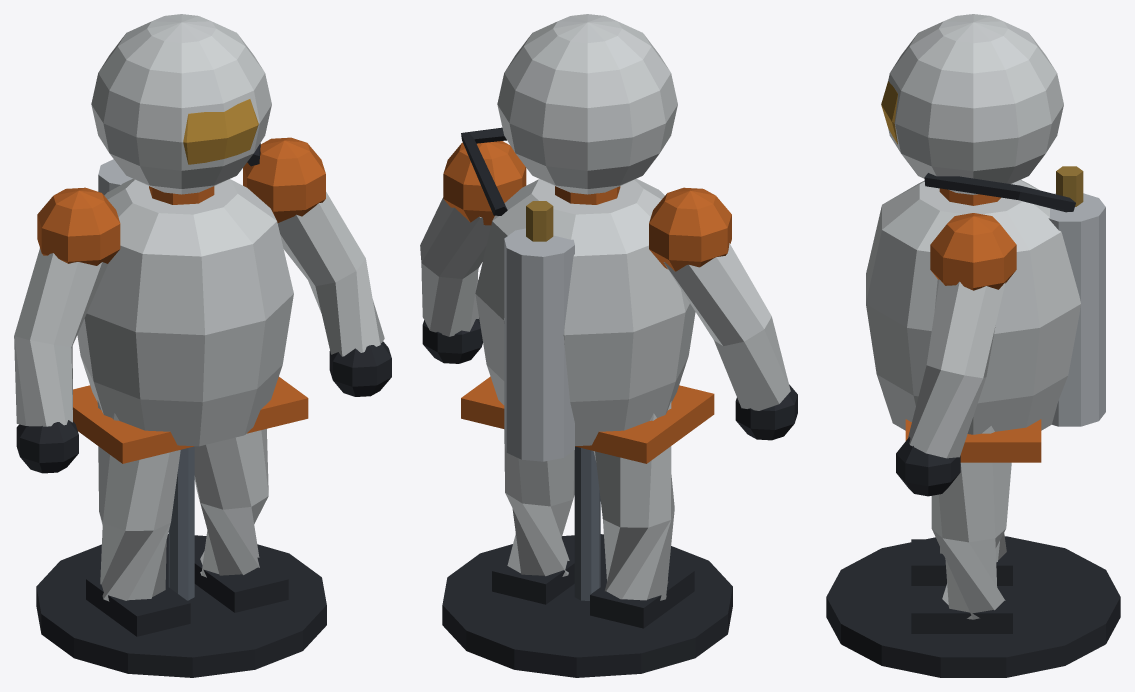
Rendered from space-suit.glb.
3 renders of one model, left to right at view 1: azimuth 30°, elevation 25°; view 2: azimuth 150°, elevation 25°; view 3: azimuth 270°, elevation 25°, orthographic.
Parts seen in each view (by area): view 1: m; view 2: m; view 3: m.
Boxes of the visible parts, left/top/right/bottom form: m: left=14, top=14, right=391, bottom=677; m: left=420, top=14, right=797, bottom=677; m: left=826, top=14, right=1120, bottom=677.
Size of the model in its own units: 0.3641 by 0.56 by 0.251.
